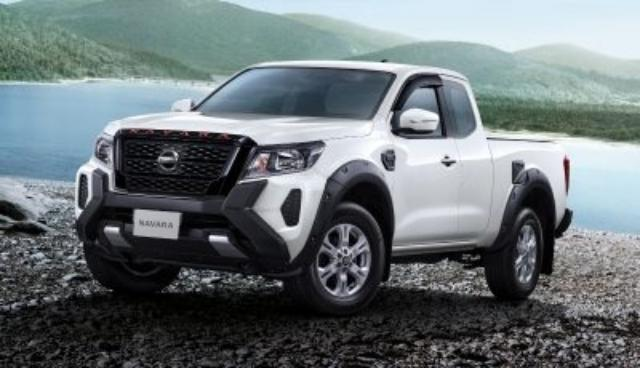pickup-truck: (72, 60, 573, 308)
